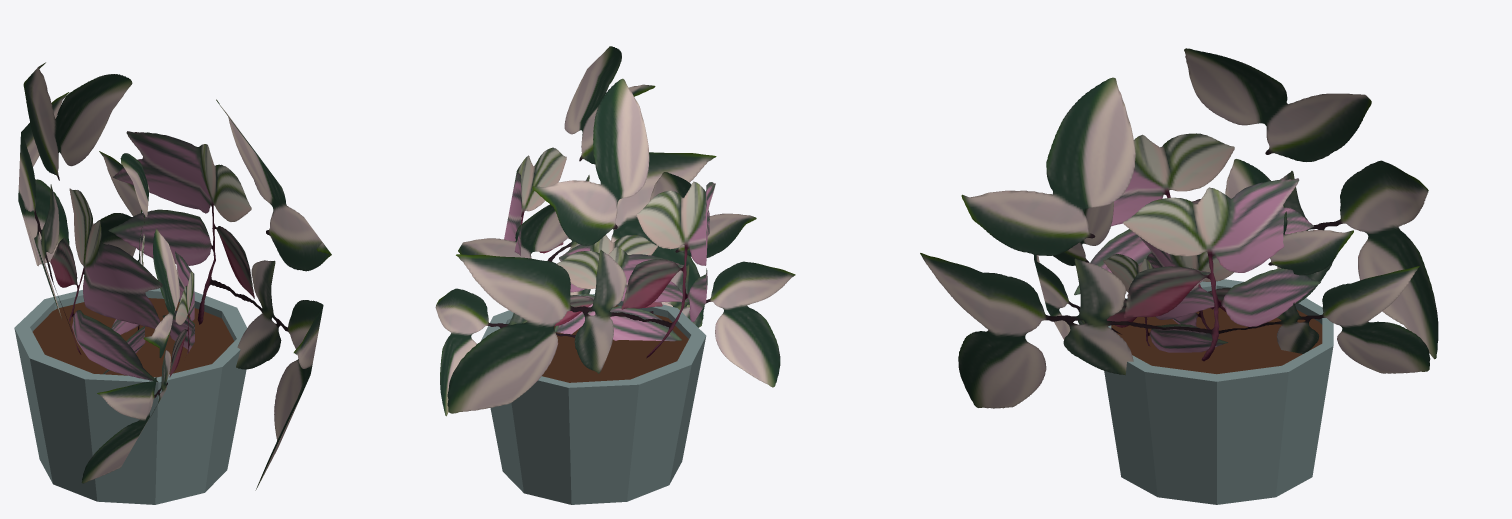
File: Pot_Tradescantia_001.fbx
3 renders of one model, left to right at view 1: azimuth 30°, elevation 25°; view 2: azimuth 150°, elevation 25°; view 3: azimuth 270°, elevation 25°, orthographic. The views are drawn at different scales.
Visible parts, largest first — view 1: Pot_Tradescantia_002; view 2: Pot_Tradescantia_002; view 3: Pot_Tradescantia_002.
Boxes of the visible parts, x1,y1,x2,y2 form: Pot_Tradescantia_002: (14, 62, 331, 504); Pot_Tradescantia_002: (435, 46, 795, 504); Pot_Tradescantia_002: (920, 48, 1438, 504).
Bounding box in the file's own units: 2.76 × 3.98 × 5.11.
3 materials, 1 textured.
